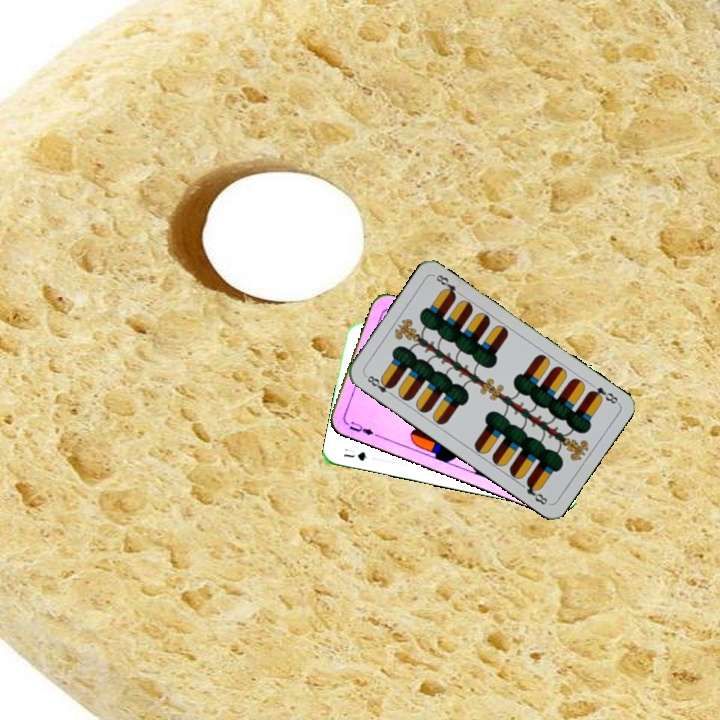E8: (361, 371, 396, 399), (585, 383, 621, 407)
EU: (345, 417, 380, 439)
GU: (340, 444, 369, 463)
